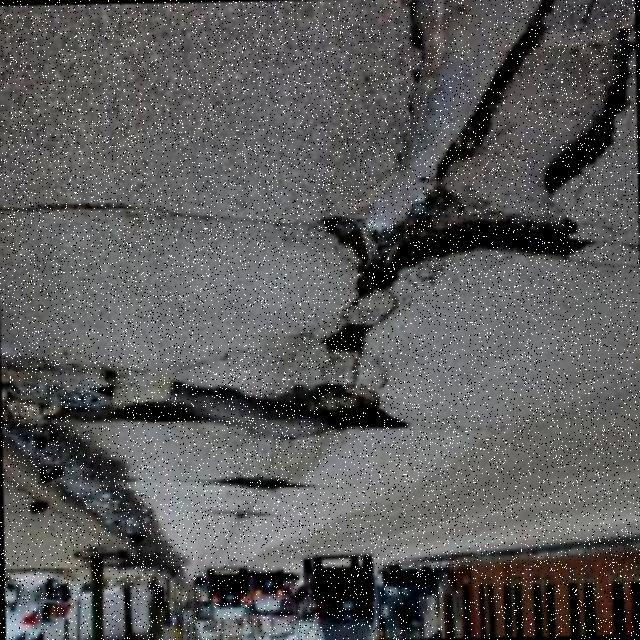Pothole: (320, 0, 633, 298), (40, 379, 408, 436), (141, 473, 317, 487), (322, 323, 372, 352), (193, 508, 273, 519)
